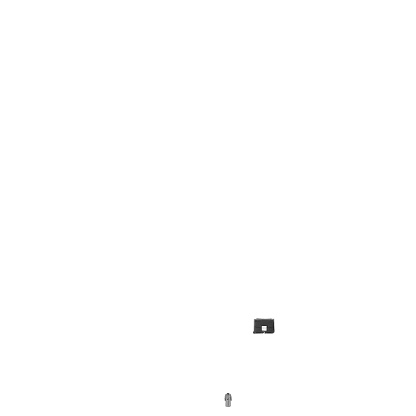Bag: (253, 315, 275, 337)
Dress: (221, 393, 235, 407)
